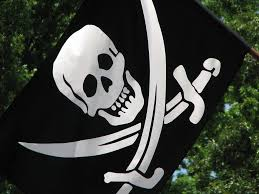Jolly Roger Flag: (4, 1, 251, 194)
